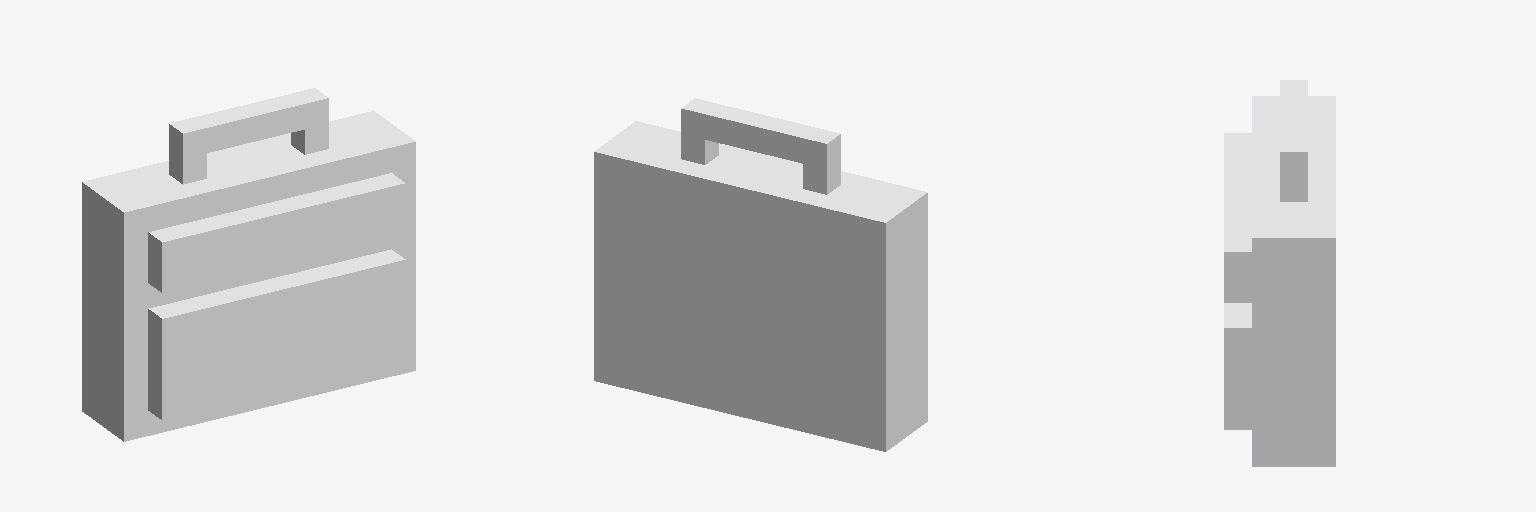
File: bag0.obj
3 views of the same model, side by side, from view 1: azimuth 30°, elevation 25°; view 2: azimuth 150°, elevation 25°; view 3: azimuth 270°, elevation 25° (orthographic).
Bounding box in the file's own units: 0.6 × 0.55 × 0.2.